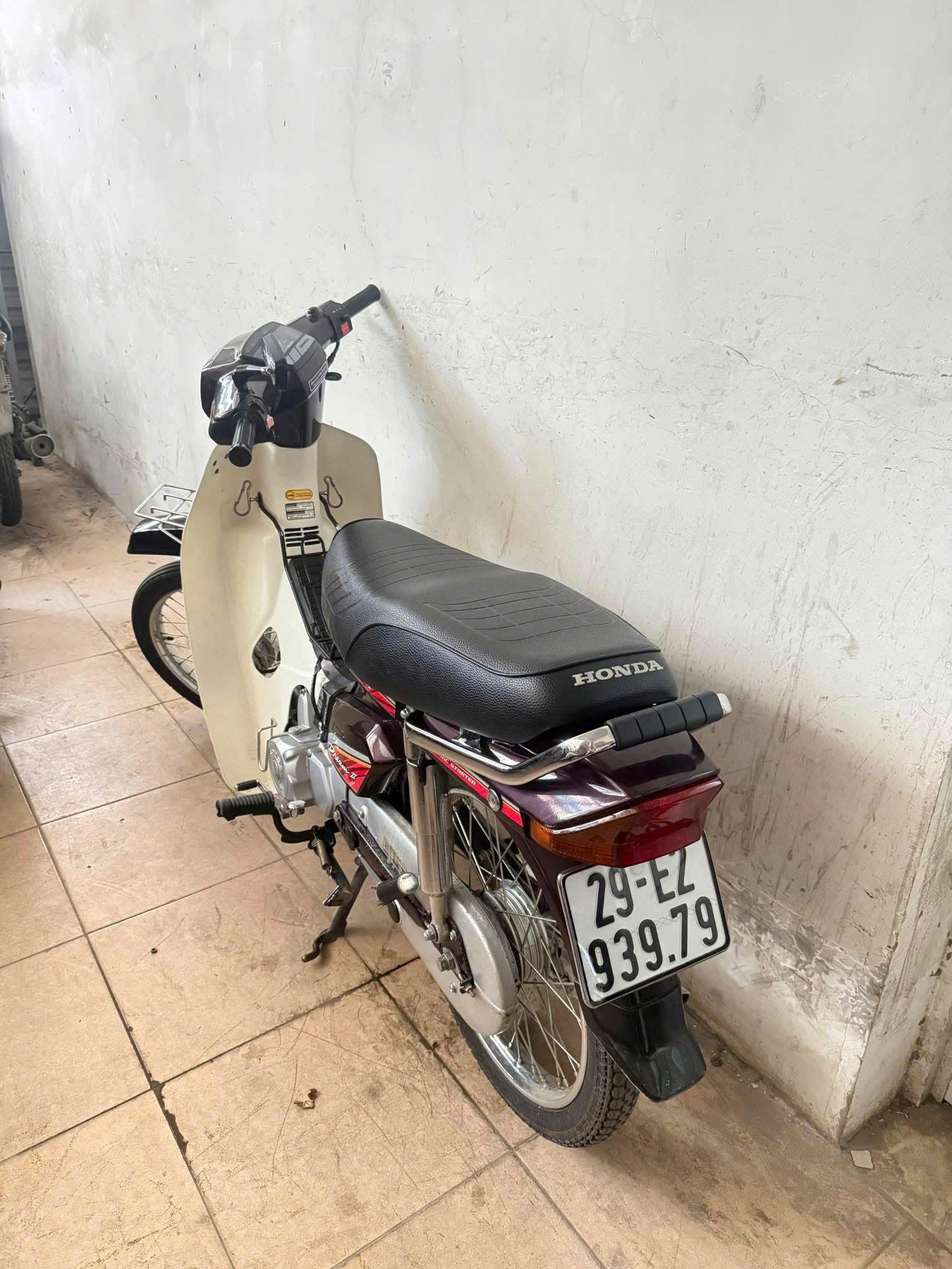Bien-so: (558, 832, 737, 1014)
